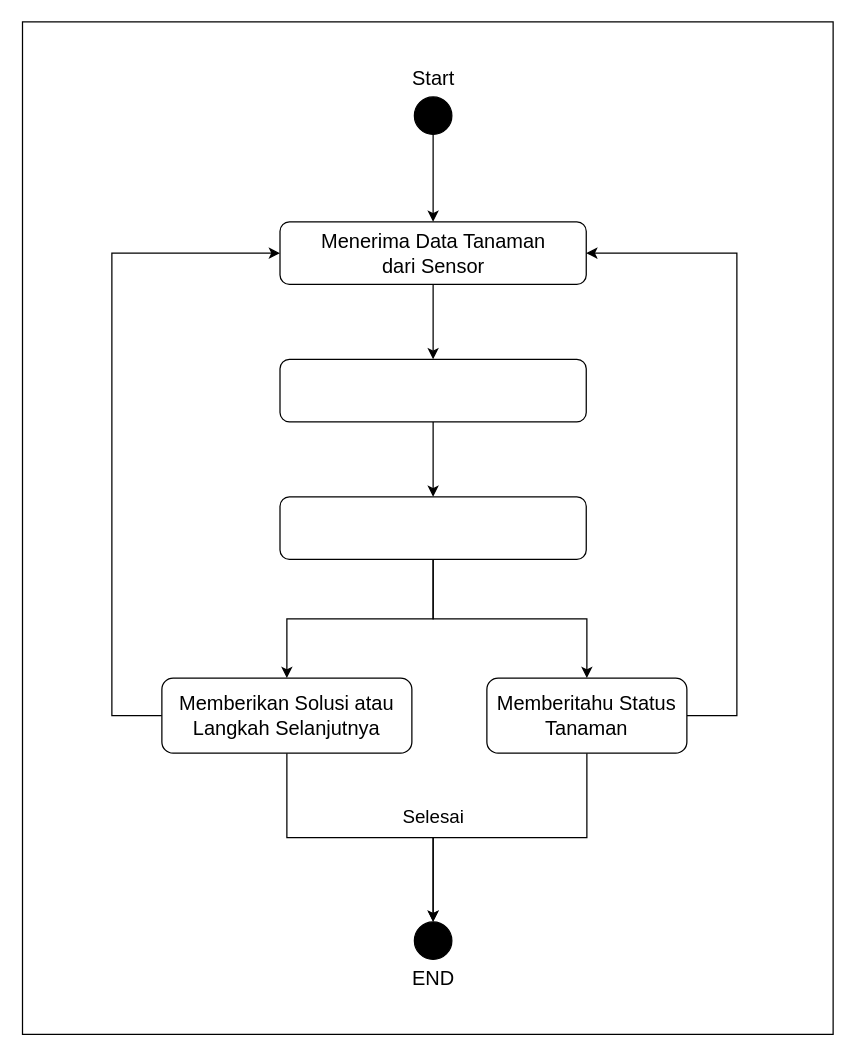
Some shapes in this 855 by 1056 pixel diagram are drawn without their labels. Each missing label, with the centre of its shape:
Kalkulasi Pertumbuhan Tanaman Berdasarkan Data: (x=432, y=390)
Mengecek Kondisi Tanaman: (x=432, y=527)
